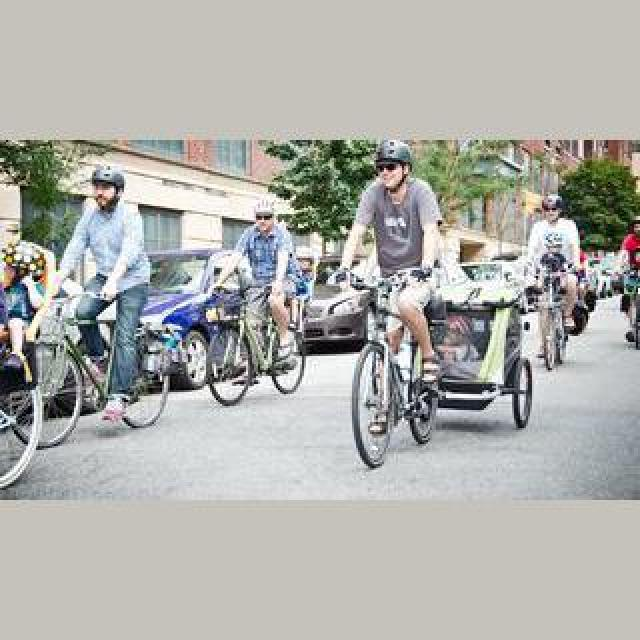Bus-Bike: (296, 266, 374, 352)
MC-Bike: (338, 138, 448, 398), (58, 164, 154, 416), (234, 206, 296, 376), (524, 194, 586, 340), (2, 256, 42, 376)
Person: (38, 296, 182, 440), (350, 270, 446, 468), (208, 278, 310, 408), (530, 274, 572, 374)
